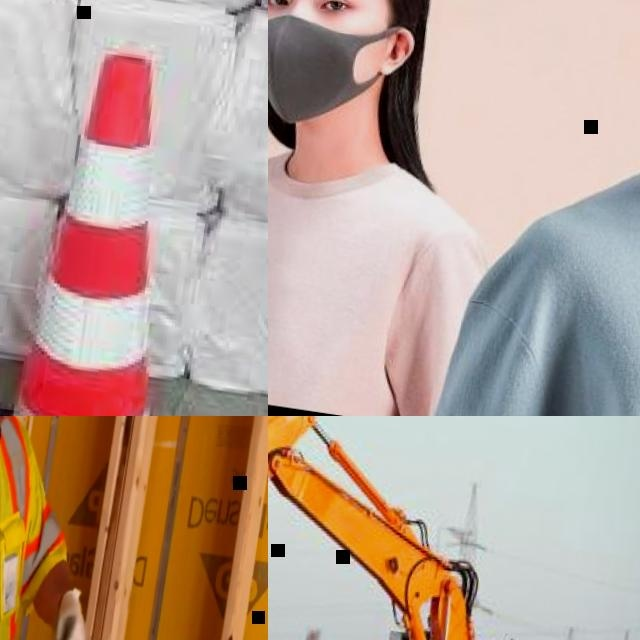Mask: (268, 4, 414, 141)
NO-Safety Vest: (268, 151, 449, 416), (548, 164, 640, 416)
Person: (268, 0, 543, 416), (421, 0, 640, 416), (0, 416, 141, 640)
Safety Cone: (0, 36, 258, 416)
Safety Vest: (0, 416, 85, 640)
machinery: (268, 416, 640, 640)
